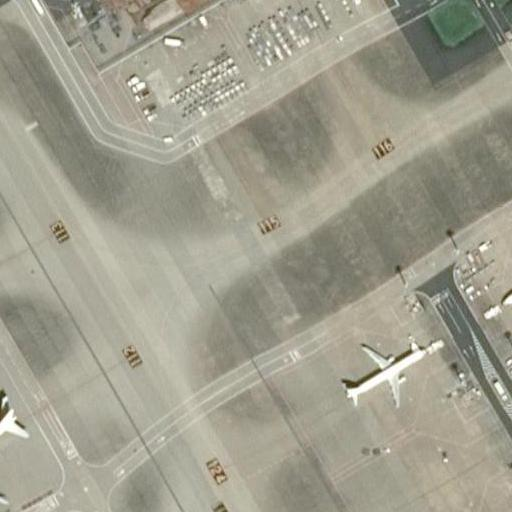Aircraft: (336, 337, 434, 407), (0, 393, 24, 507), (495, 244, 512, 313)
